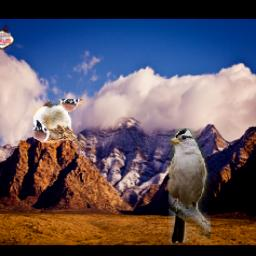Sparrow: (167, 129, 210, 244), (32, 99, 85, 147)
